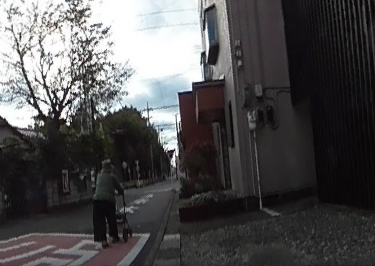person: (92, 158, 122, 247)
